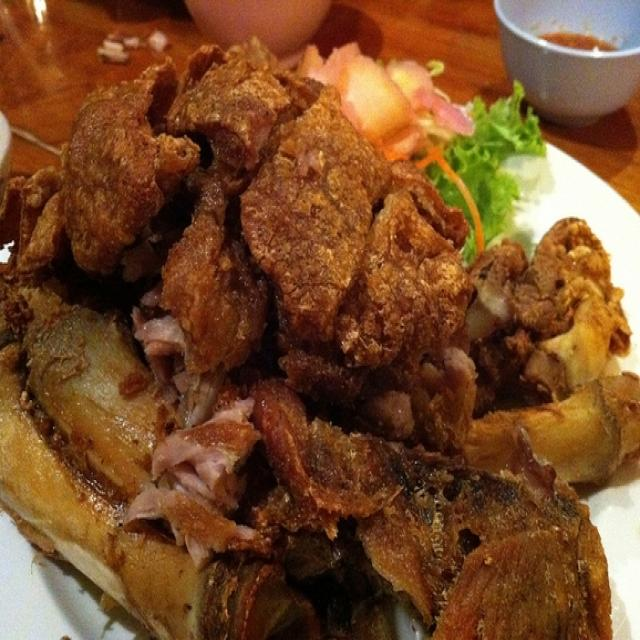猪肉菜式: (18, 31, 616, 605)
